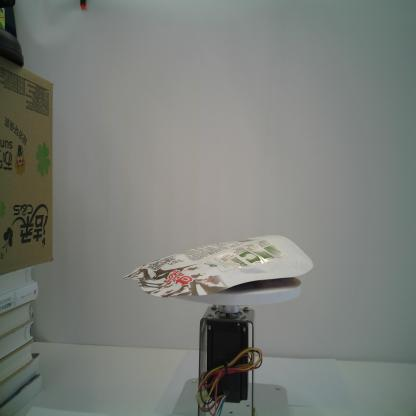Dried Fruit: (123, 233, 314, 299)
